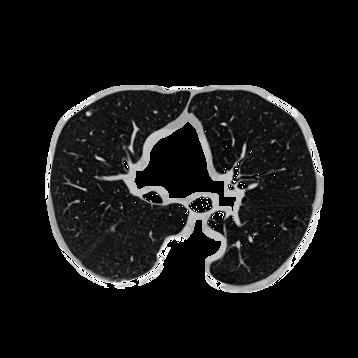PN: (86, 111, 90, 115)
